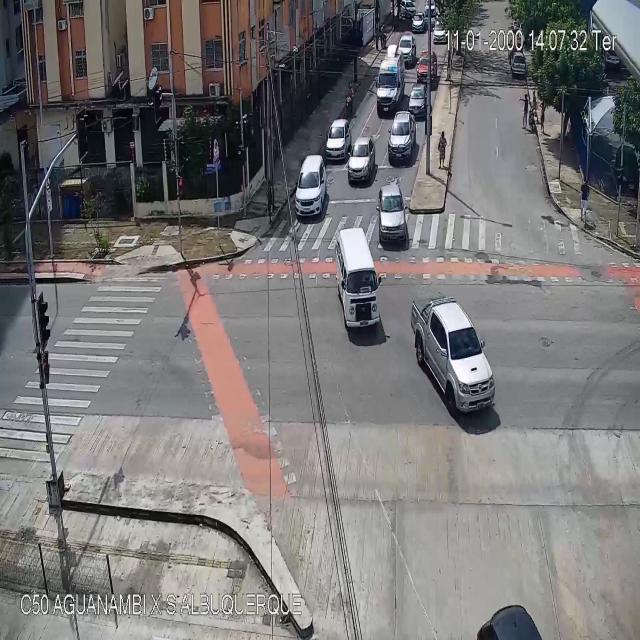Car: (411, 296, 495, 412), (337, 226, 382, 329), (377, 185, 408, 246), (298, 155, 327, 220), (377, 54, 404, 115), (387, 113, 416, 163), (348, 138, 375, 185), (326, 118, 350, 162), (417, 48, 438, 88), (409, 82, 426, 119), (398, 34, 417, 66), (432, 21, 446, 43), (412, 11, 426, 33), (512, 53, 524, 74), (424, 2, 436, 18)
Motorcycle: (346, 84, 353, 114)
